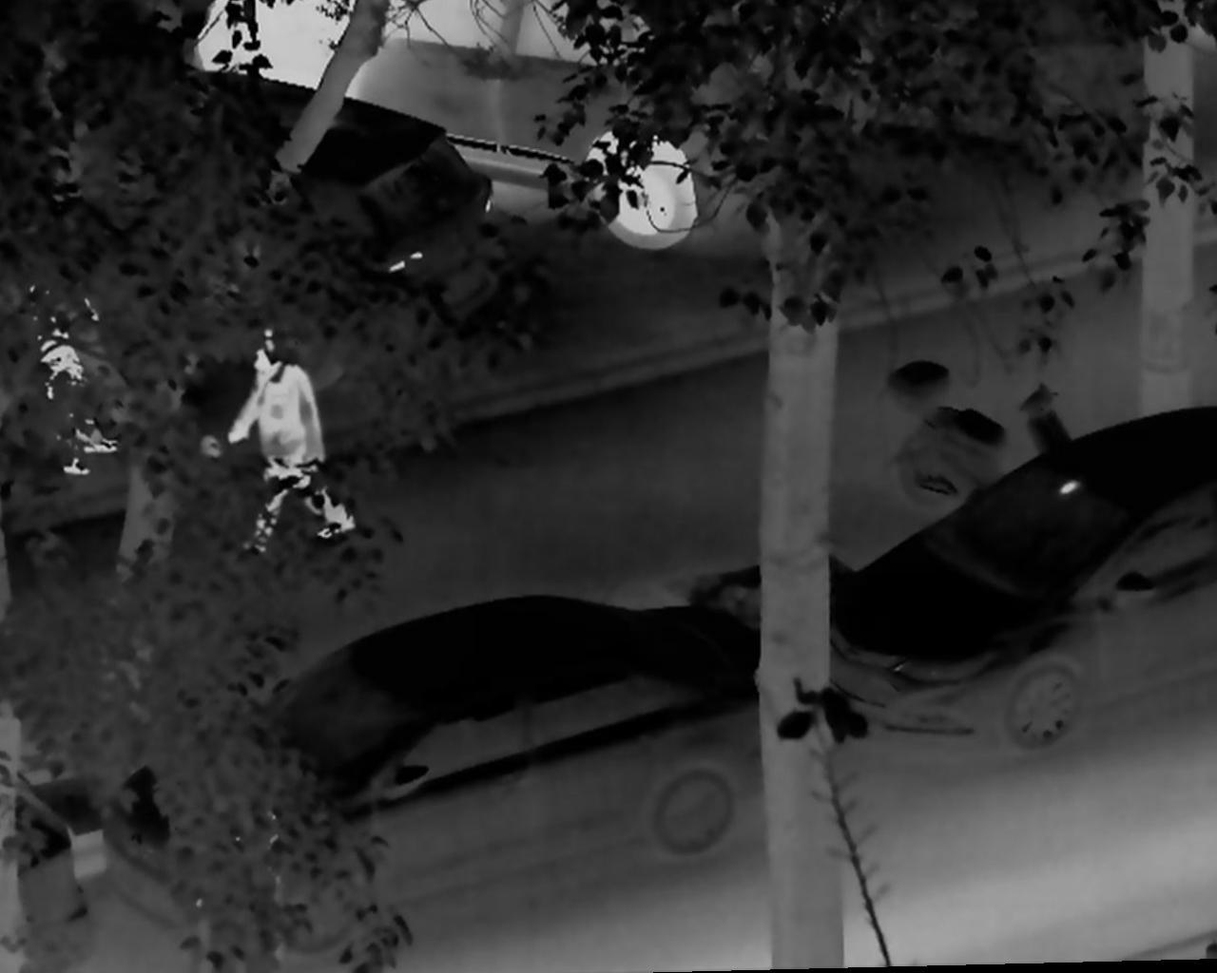person: (224, 319, 357, 566), (24, 229, 116, 481)
